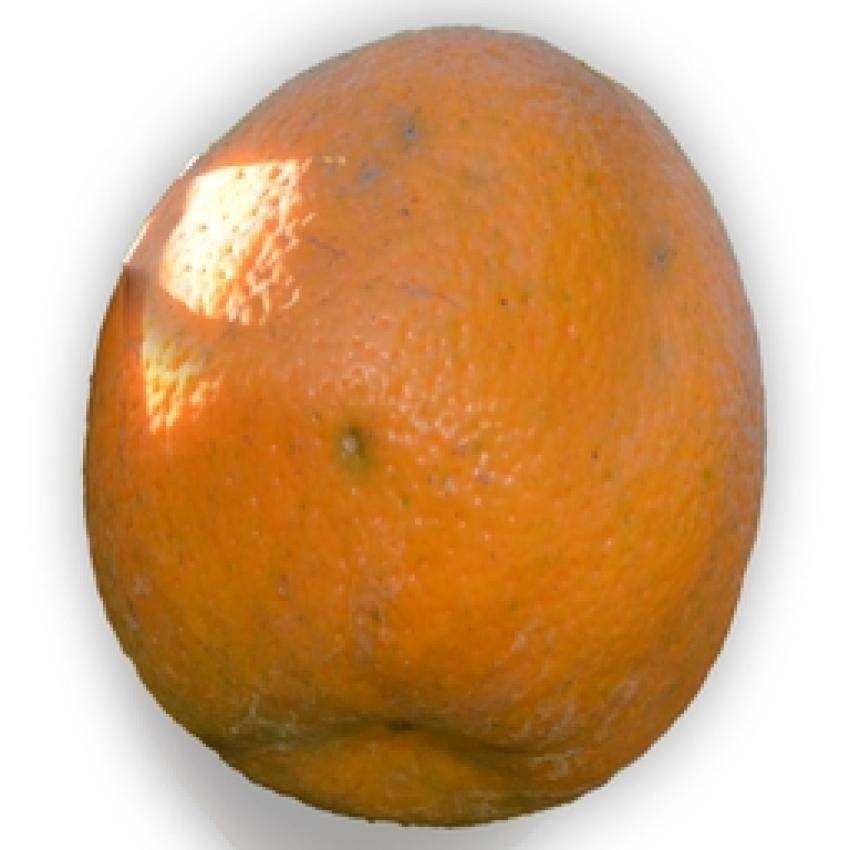Mal estado: (70, 0, 790, 837)
